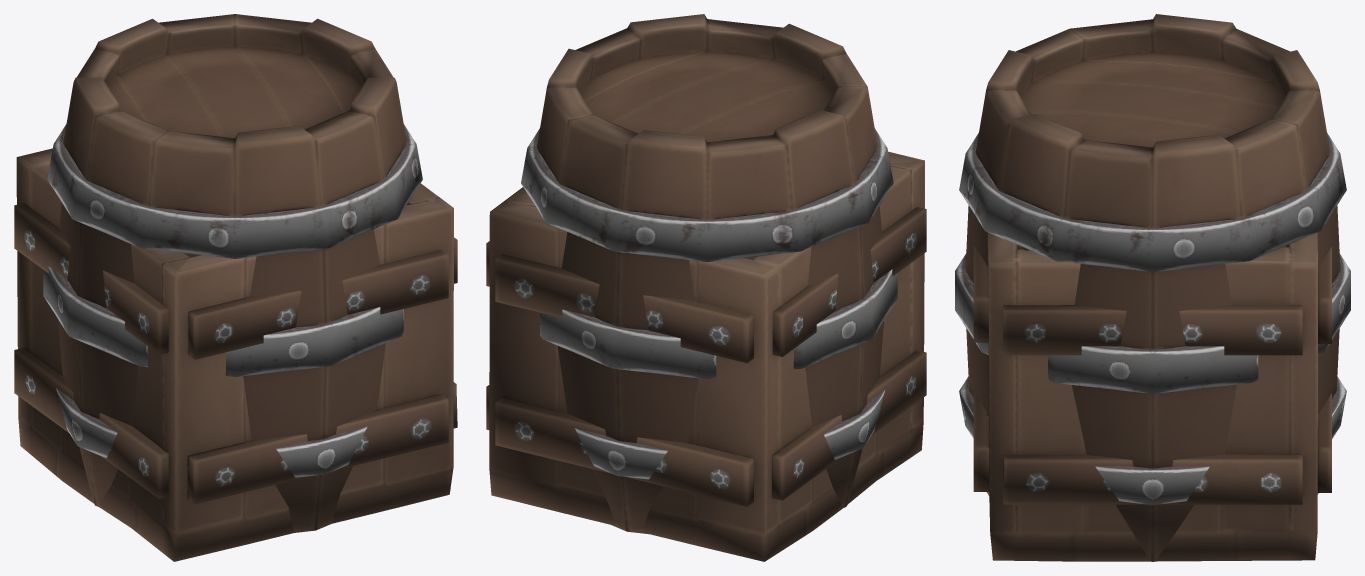
The model's file is barrelCrate_exp1.fbx.
3 views of the same model, side by side, from view 1: azimuth 30°, elevation 25°; view 2: azimuth 150°, elevation 25°; view 3: azimuth 270°, elevation 25° (orthographic). The views are drawn at different scales.
Visible parts, largest first — view 1: barrel_low, crate_low; view 2: barrel_low, crate_low; view 3: barrel_low, crate_low.
Boxes of the visible parts, x1,y1,x2,y2 form: barrel_low: [43, 14, 422, 532]; crate_low: [14, 148, 457, 561]; barrel_low: [521, 14, 897, 534]; crate_low: [486, 151, 926, 561]; barrel_low: [955, 14, 1350, 561]; crate_low: [973, 232, 1331, 561].
Bounding box in the file's own units: 237 × 270 × 237.
Materials: 1 (1 with a texture image).
